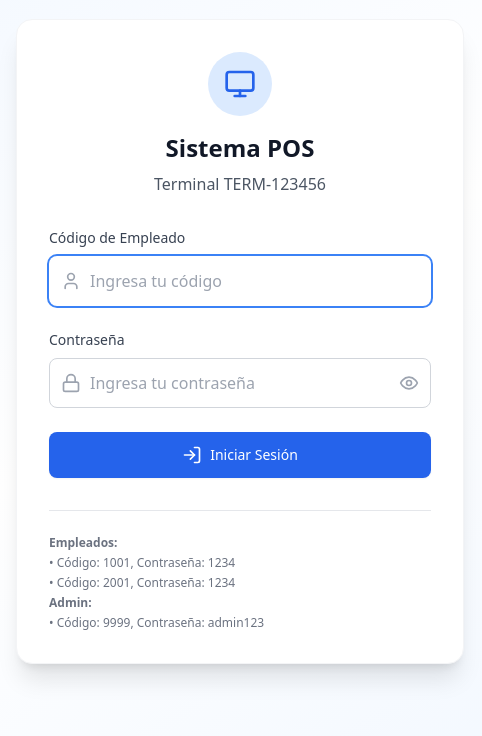
Test: Login Component › muestra error cuando falta la contraseña
Type "1001" into the field labelled "Código de Empleado" at (240, 280), box [49,256,431,306]
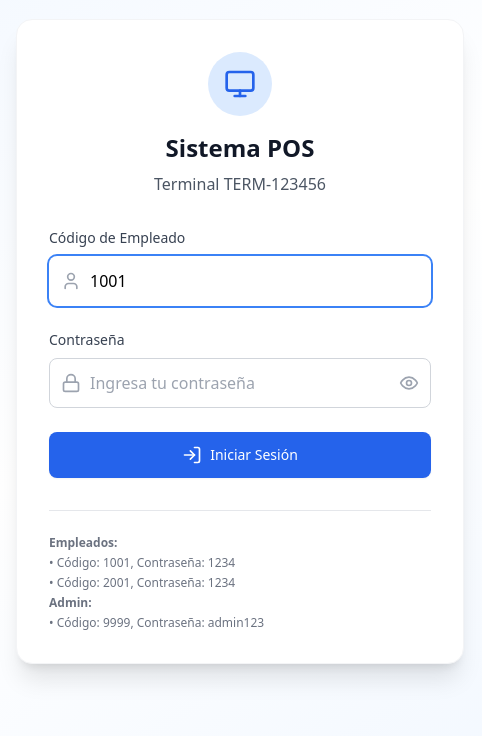
Click the button "Iniciar Sesión" at (240, 454), box [49,432,431,478]
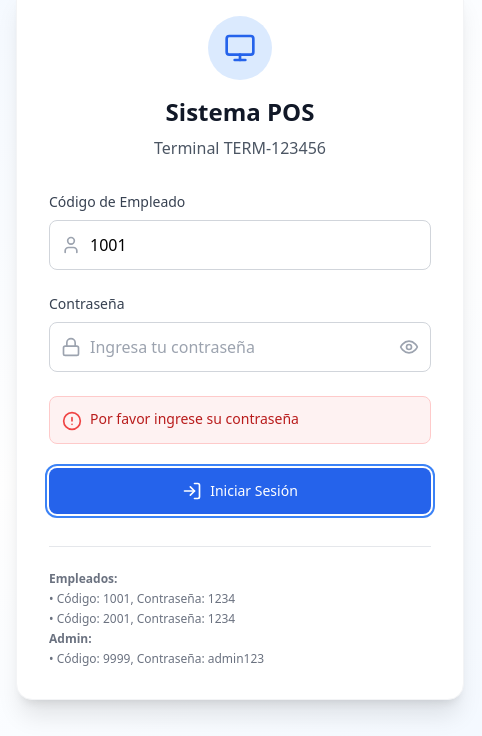
expect the text "Por favor ingrese su contraseña" is shown: met, box [90,408,299,428]
